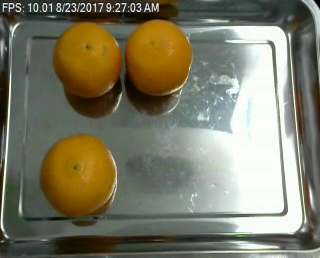Orange: (40, 134, 118, 217), (53, 20, 120, 99), (125, 18, 193, 94)
